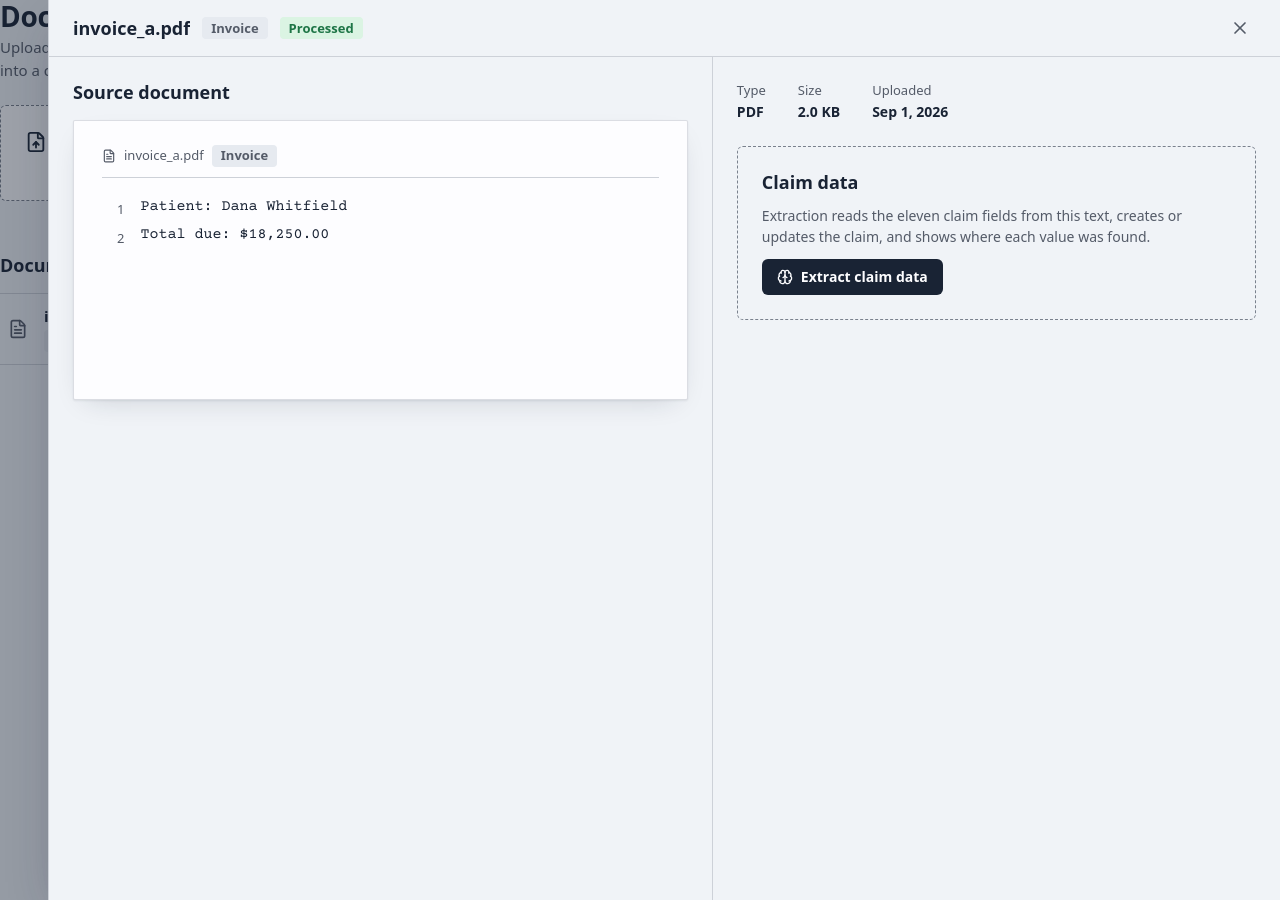
Test: DocumentsPage › opens a document from its link and traces extracted fields into its text
expect the text "Total due: $18,250.00" is shown: met, box 140,226 -> 329,243
Click the button "Extract claim data": click(852, 277) 762,259 -> 943,295
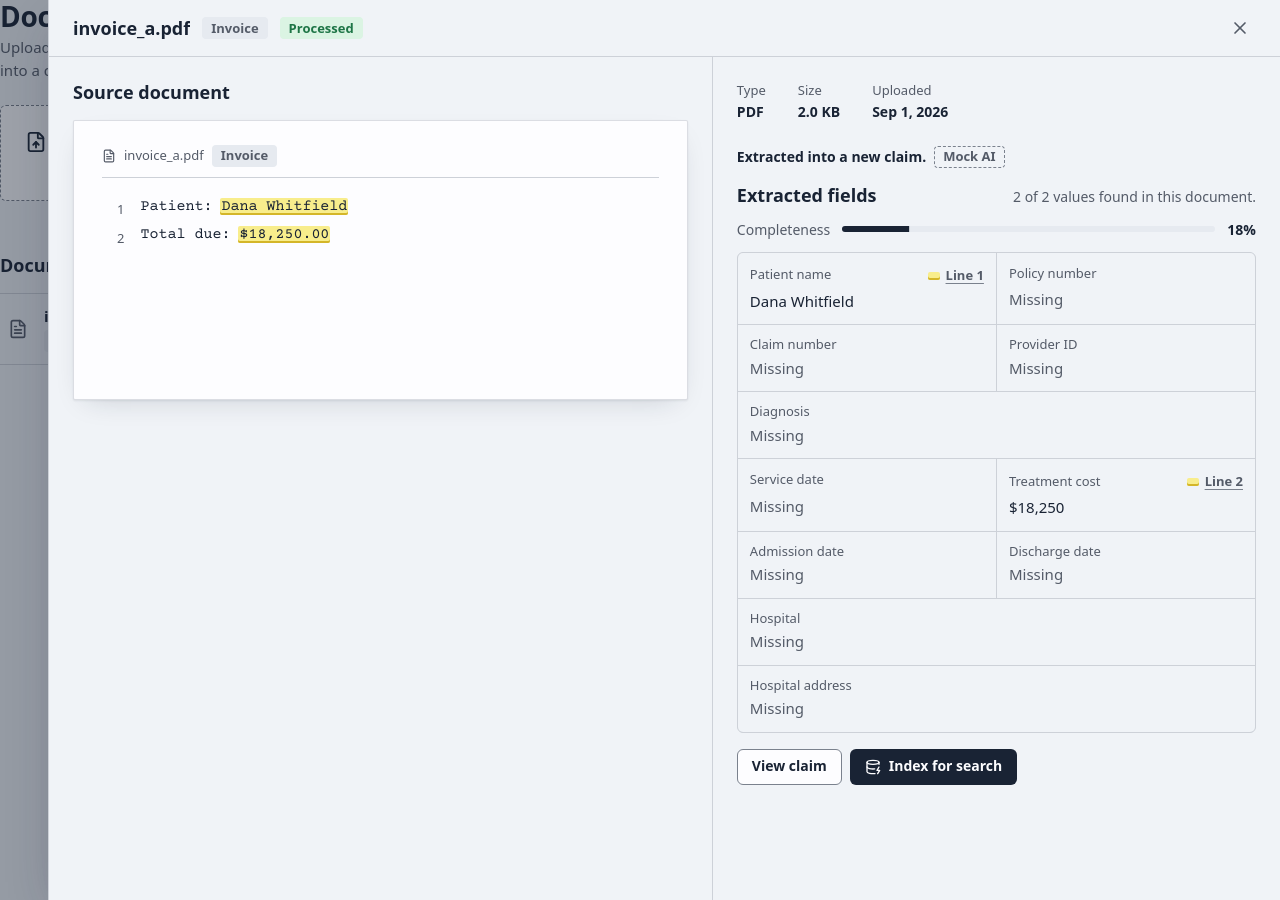
expect the button with aria-label "Show patient name in the document: Line 1" is shown: met, box 922,264 -> 990,288
expect the button with aria-label "Show treatment cost in the document: Line 2" is shown: met, box 1181,470 -> 1249,494
expect the text "2 of 2 values found in this document." is shown: met, box 1013,186 -> 1256,206
